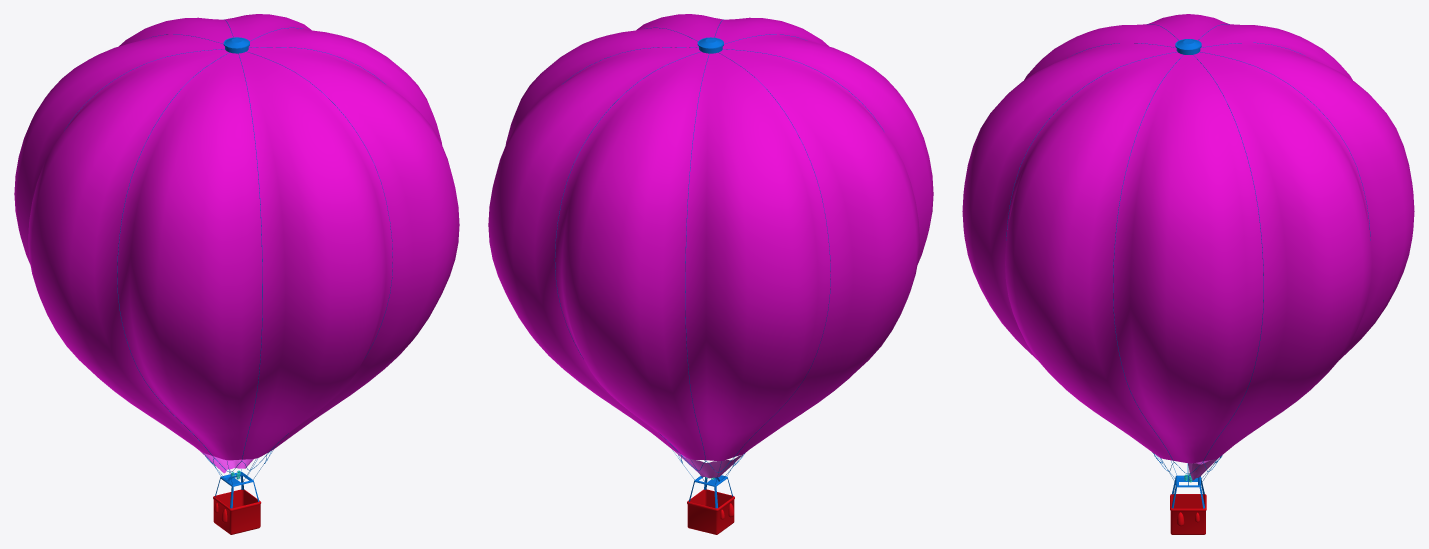
Rendered from planica-air-balloon.fbx.
3 renders of one model, left to right at view 1: azimuth 30°, elevation 25°; view 2: azimuth 150°, elevation 25°; view 3: azimuth 270°, elevation 25°, orthographic.
Parts seen in each view (by area): view 1: hot_air_baloon_4; view 2: hot_air_baloon_4; view 3: hot_air_baloon_4.
Boxes of the visible parts, box(x1,y1,x2,y2) form: hot_air_baloon_4: box(14, 14, 459, 534); hot_air_baloon_4: box(488, 14, 933, 534); hot_air_baloon_4: box(962, 14, 1414, 534).
Size of the model in its own units: 5339 by 6336 by 5338.
